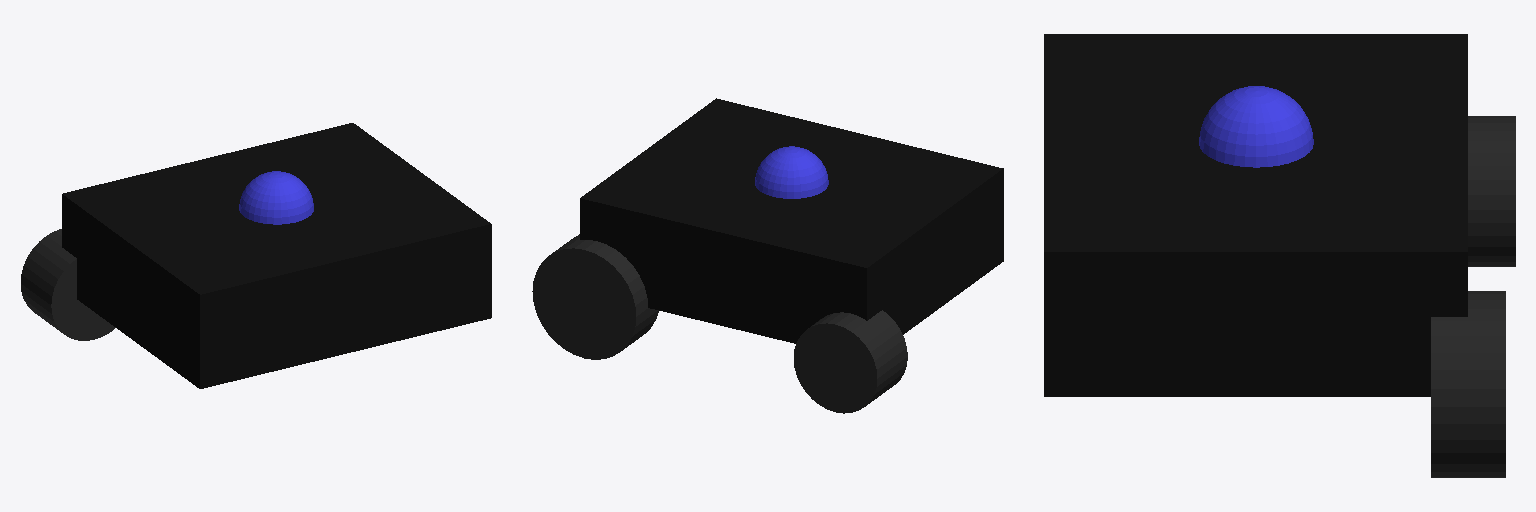
The robot description file, URDF, robot "evolved_robot":
<?xml version="1.0"?>
<robot name="evolved_robot">
  <material name="metal">
    <color rgba="0.7 0.7 0.7 1.0"/>
  </material>
  <material name="plastic">
    <color rgba="0.3 0.3 0.9 1.0"/>
  </material>
  <material name="rubber">
    <color rgba="0.1 0.1 0.1 1.0"/>
  </material>
  <material name="red">
    <color rgba="1.0 0.0 0.0 1.0"/>
  </material>
  <material name="wheel_material">
    <color rgba="0.2 0.2 0.2 1.0"/>
  </material>
  <link name="base_link">
    <visual>
      <geometry><box size="0.34879374961555876 0.2867757265282742 0.108055278192208"/></geometry>
      <material name="rubber"/>
    </visual>
    <collision>
      <geometry><box size="0.34879374961555876 0.2867757265282742 0.108055278192208"/></geometry>
    </collision>
    <inertial>
      <mass value="5.0"/>
      <inertia ixx="0.07826355039251248" ixy="0" ixz="0" 
               iyy="0.1111108524300638" iyz="0" 
               izz="0.16991449758058386"/>
    </inertial>
  </link>
  <link name="link1">
    <visual>
      <geometry><sphere radius="0.038968192844657516"/></geometry>
      <material name="plastic"/>
    </visual>
    <collision>
      <geometry><sphere radius="0.038968192844657516"/></geometry>
    </collision>
    <inertial>
      <mass value="0.5"/>
      <inertia ixx="0.0006074080214313669" ixy="0" ixz="0" 
               iyy="0.0006074080214313669" iyz="0" 
               izz="0.0006074080214313669"/>
    </inertial>
  </link>
  <joint name="joint1" type="revolute">
    <parent link="base_link"/>
    <child link="link1"/>
    <origin xyz="0 0 0.054027639096104" rpy="0 0 0"/>
    <axis xyz="0.6209072305563619 -0.706112610599677 -0.3404103291542989"/>
    <dynamics damping="0.6511214099243565" friction="0.1"/>
    <limit lower="-2.1680071736017976" upper="1.4084694643140252" effort="100" velocity="100"/>
  </joint>
  <link name="link2">
    <visual>
      <geometry>
        <cylinder radius="0.06309177534795424" length="0.050642401515376426"/>
      </geometry>
      <material name="wheel_material"/>
    </visual>
    <collision>
      <geometry>
        <cylinder radius="0.06309177534795424" length="0.050642401515376426"/>
      </geometry>
    </collision>
    <inertial>
      <mass value="1.0"/>
      <inertia ixx="0.0012088640984095648" ixy="0" ixz="0" 
               iyy="0.0012088640984095648" iyz="0" 
               izz="0.001990286058278363"/>
    </inertial>
  </link>
  <joint name="joint2" type="continuous">
    <parent link="base_link"/>
    <child link="link2"/>
    <origin xyz="0.1543968748077794 0.1433878632641371 -0.054027639096104" rpy="1.5708 0 0"/>
    <axis xyz="0 1 0"/>
    <dynamics damping="0.8641071446101862" friction="0.1"/>
  </joint>
  <link name="link3">
    <visual>
      <geometry>
        <cylinder radius="0.05097653602202047" length="0.06395966676517956"/>
      </geometry>
      <material name="wheel_material"/>
    </visual>
    <collision>
      <geometry>
        <cylinder radius="0.05097653602202047" length="0.06395966676517956"/>
      </geometry>
    </collision>
    <inertial>
      <mass value="1.0"/>
      <inertia ixx="0.0009905550539271554" ixy="0" ixz="0" 
               iyy="0.0009905550539271554" iyz="0" 
               izz="0.0012993036124021753"/>
    </inertial>
  </link>
  <joint name="joint3" type="floating">
    <parent link="base_link"/>
    <child link="link3"/>
    <origin xyz="-0.1543968748077794 0.1433878632641371 -0.054027639096104" rpy="1.5708 0 0"/>
    <axis xyz="0 1 0"/>
    <dynamics damping="0.9386368848209998" friction="0.1"/>
  </joint>
</robot>

--- What the picture shows (computed from the rendered views, not written in the file) ---
3 views of the same robot in one strip: view 1: azimuth 30°, elevation 25°; view 2: azimuth 150°, elevation 25°; view 3: azimuth 270°, elevation 25° (orthographic).
Model evolved_robot with 4 links and 3 joints (1 revolute, 1 continuous, 1 floating), rooted at base_link, posed every joint at zero.
Links seen in each view (by area): view 1: base_link, link3, link1; view 2: base_link, link2, link3, link1; view 3: base_link, link2, link1, link3.
Link boxes in pixels (x1,y1,x2,y2): base_link: (62, 123, 491, 388); link3: (21, 229, 115, 340); link1: (239, 171, 313, 224); base_link: (580, 98, 1003, 343); link2: (532, 234, 658, 359); link3: (794, 310, 907, 413); link1: (755, 146, 828, 198); base_link: (1044, 34, 1467, 396); link2: (1431, 291, 1505, 477); link1: (1199, 86, 1313, 167); link3: (1468, 116, 1515, 266).
Size in the robot's own frame: 0.4229 by 0.3188 by 0.2101 metres.
Geometry: primitives only (box / cylinder / sphere), no mesh files.